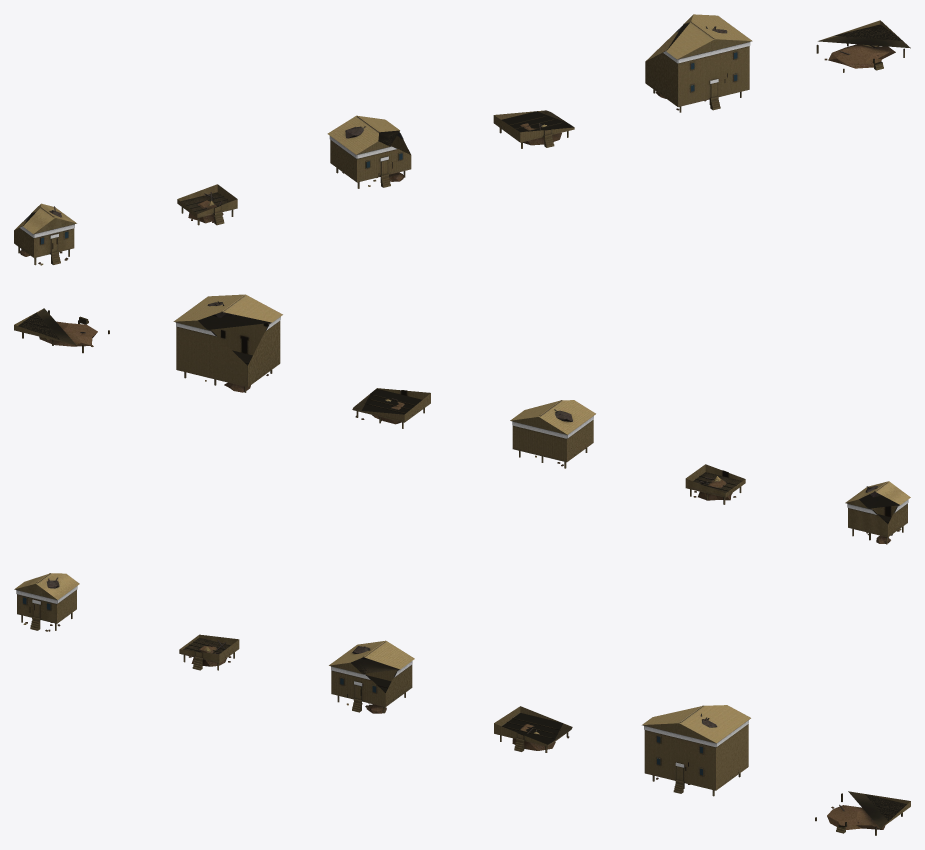
The model's file is bronze-monsoon-houses-damage-3dc60c6a.glb.
The picture shows the model from 3 angles, top to bottom: view 1: azimuth 30°, elevation 25°; view 2: azimuth 150°, elevation 25°; view 3: azimuth 330°, elevation 25°; orthographic projection.
Visible parts, largest first — view 1: LOD0.004, LOD0.002, LOD0, LOD0.005, LOD0.003, LOD0.001; view 2: LOD0.004, LOD0.002, LOD0, LOD0.003, LOD0.005, LOD0.001; view 3: LOD0.004, LOD0.002, LOD0, LOD0.003, LOD0.005, LOD0.001.
Boxes of the visible parts, x1=… form: LOD0.004: x1=645, y1=14, x2=752, y2=112; LOD0.002: x1=327, y1=115, x2=411, y2=188; LOD0: x1=14, y1=203, x2=76, y2=265; LOD0.005: x1=816, y1=20, x2=910, y2=72; LOD0.003: x1=493, y1=110, x2=574, y2=148; LOD0.001: x1=177, y1=184, x2=237, y2=225; LOD0.004: x1=173, y1=294, x2=282, y2=392; LOD0.002: x1=510, y1=400, x2=595, y2=468; LOD0: x1=845, y1=481, x2=910, y2=544; LOD0.003: x1=352, y1=388, x2=430, y2=428; LOD0.005: x1=14, y1=308, x2=109, y2=353; LOD0.001: x1=685, y1=464, x2=745, y2=504; LOD0.004: x1=642, y1=705, x2=750, y2=796; LOD0.002: x1=329, y1=640, x2=414, y2=713; LOD0: x1=14, y1=573, x2=79, y2=631; LOD0.003: x1=494, y1=706, x2=572, y2=752; LOD0.005: x1=815, y1=791, x2=910, y2=835; LOD0.001: x1=179, y1=634, x2=239, y2=670.
Size of what is drawn, in the model's own units: 16.06 by 1.22 by 1.17.
Materials: 2 (2 with a texture image).
